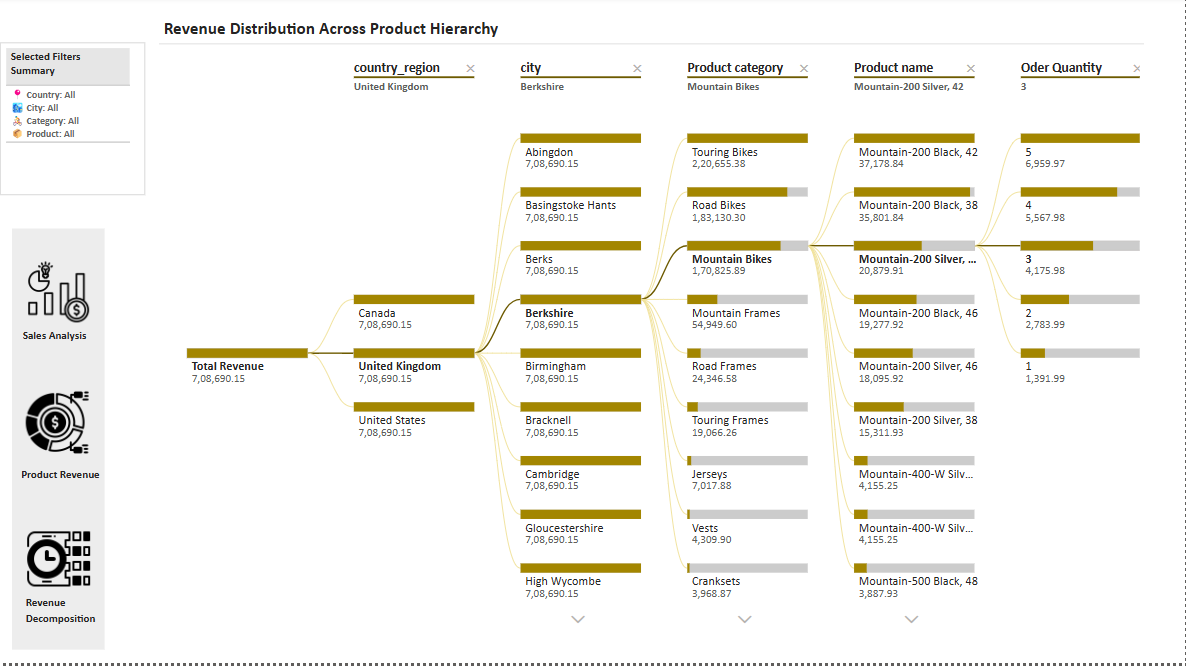

The dashboard page shown, as its layout file describes it:
{"tool":"powerbi","page":{"name":"Revenue Decomposition","canvas":[1280,720],"ordinal":2},"visuals":[{"type":"decompositionTreeVisual","title":"Revenue Distribution Across Product Hierarchy","fields":{"Analyze":["Sales Order Detail.Total Revenue"],"ExplainBy":["address.country_region","address.city","product category.name","product.name","Sales Order Detail.order_qty","Sales Order Header.ship_method"]},"box":[171.5,22,1063.5,673.8],"z":0},{"type":"group","id":"g1","title":"Group 1","box":[13.5,251.7,128.6,454.7],"z":1000},{"type":"tableEx","fields":{"Values":["address.Selected Filters Summary"]},"box":[0,49.4,156.4,164.7],"z":2000},{"type":"shape","box":[13.5,251.7,100.1,454.7],"z":17000,"group":"g1"},{"type":"image","box":[23,281.5,81.2,78.5],"z":18000,"group":"g1"},{"type":"image","box":[21.6,422.2,81,78.5],"z":19000,"group":"g1"},{"type":"image","box":[23,569.7,81.2,78.5],"z":20000,"group":"g1"},{"type":"textbox","box":[20.3,350.5,104.2,40.6],"z":21000,"group":"g1"},{"type":"textbox","box":[17.6,500.7,124.5,40.6],"z":22000,"group":"g1"},{"type":"textbox","box":[23,638.8,104.2,67.7],"z":23000,"group":"g1"}]}

Visuals, with their boxes in screenshot pixels (x1, y1, x2, y2), scaled from the page's 1280x720 canvas onto the 1186x667 screenshot:
"Revenue Distribution Across Product Hierarchy" decompositionTreeVisual: (x1=159, y1=20, x2=1144, y2=645)
"Group 1" group: (x1=13, y1=233, x2=132, y2=654)
tableEx - address.Selected Filters Summary: (x1=0, y1=46, x2=145, y2=198)
shape: (x1=13, y1=233, x2=105, y2=654)
image: (x1=21, y1=261, x2=97, y2=334)
image: (x1=20, y1=391, x2=95, y2=464)
image: (x1=21, y1=528, x2=97, y2=600)
textbox: (x1=19, y1=325, x2=115, y2=362)
textbox: (x1=16, y1=464, x2=132, y2=501)
textbox: (x1=21, y1=592, x2=118, y2=654)
